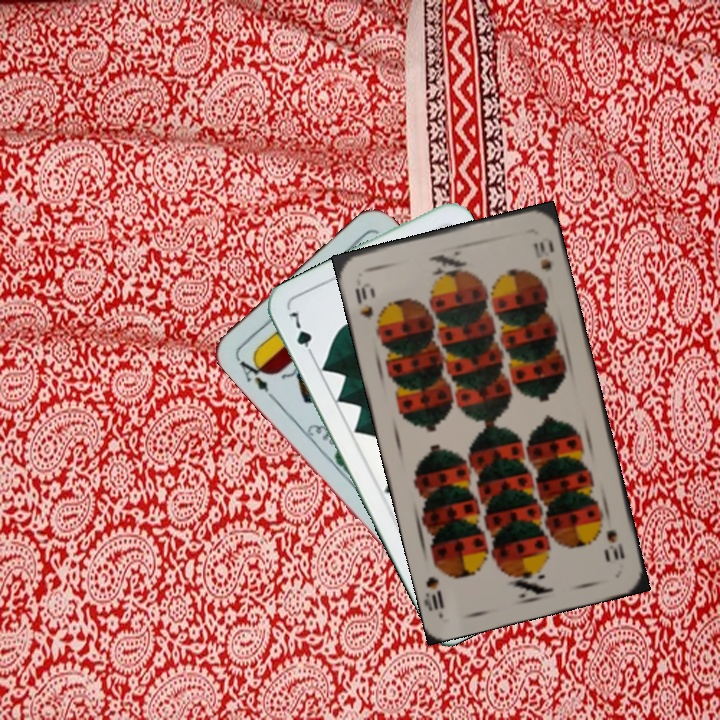EA: (232, 351, 276, 401)
G7: (285, 307, 318, 362)
S10: (351, 278, 377, 321), (602, 525, 627, 564)
